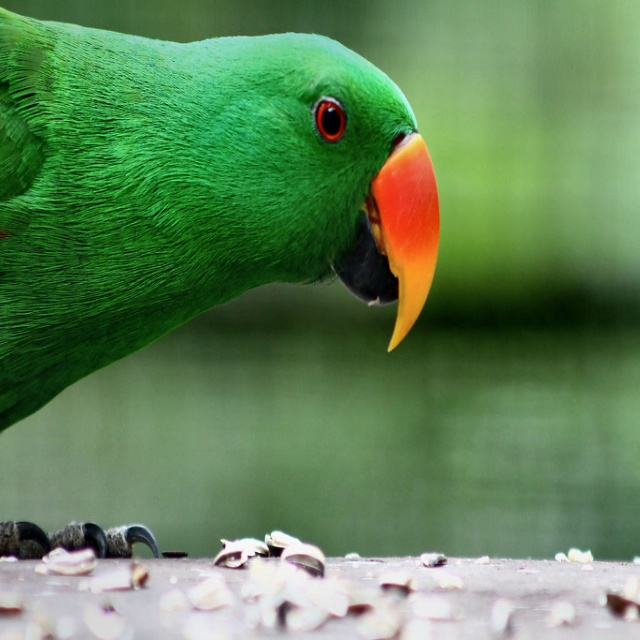Parrot: (0, 4, 440, 561)
